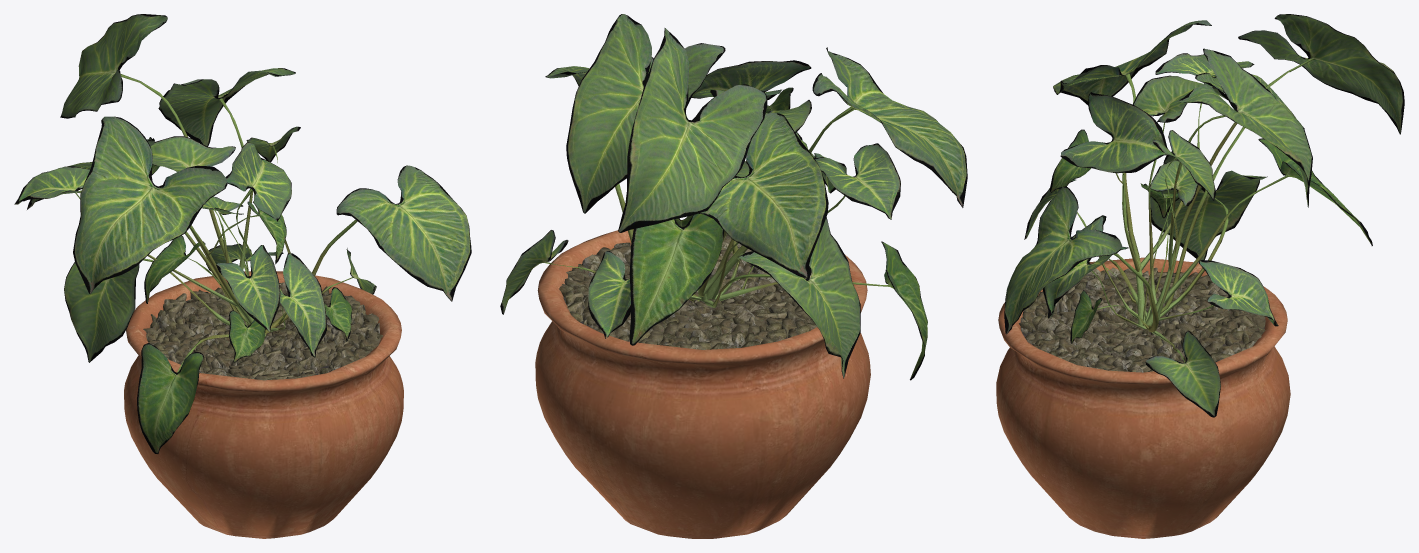
File: potted_plant_02.glb
The picture shows the model from 3 angles, left to right: view 1: azimuth 30°, elevation 25°; view 2: azimuth 150°, elevation 25°; view 3: azimuth 270°, elevation 25°; orthographic projection. The views are drawn at different scales.
Parts seen in each view (by area): view 1: potted_plant_02_leaves, potted_plant_02_pot, potted_plant_02_dirt; view 2: potted_plant_02_leaves, potted_plant_02_pot, potted_plant_02_dirt; view 3: potted_plant_02_leaves, potted_plant_02_pot, potted_plant_02_dirt.
Part boxes in pixels (x1=…): potted_plant_02_leaves: x1=14, y1=14, x2=471, y2=453; potted_plant_02_pot: x1=124, y1=271, x2=403, y2=538; potted_plant_02_dirt: x1=143, y1=282, x2=382, y2=380; potted_plant_02_leaves: x1=500, y1=14, x2=967, y2=380; potted_plant_02_pot: x1=535, y1=220, x2=870, y2=538; potted_plant_02_dirt: x1=559, y1=233, x2=816, y2=349; potted_plant_02_leaves: x1=1004, y1=14, x2=1404, y2=417; potted_plant_02_pot: x1=996, y1=257, x2=1290, y2=538; potted_plant_02_dirt: x1=1019, y1=267, x2=1265, y2=372.
Bounding box in the file's own units: 0.7009 × 0.8412 × 0.6561.
Materials: 2 (2 with a texture image).
